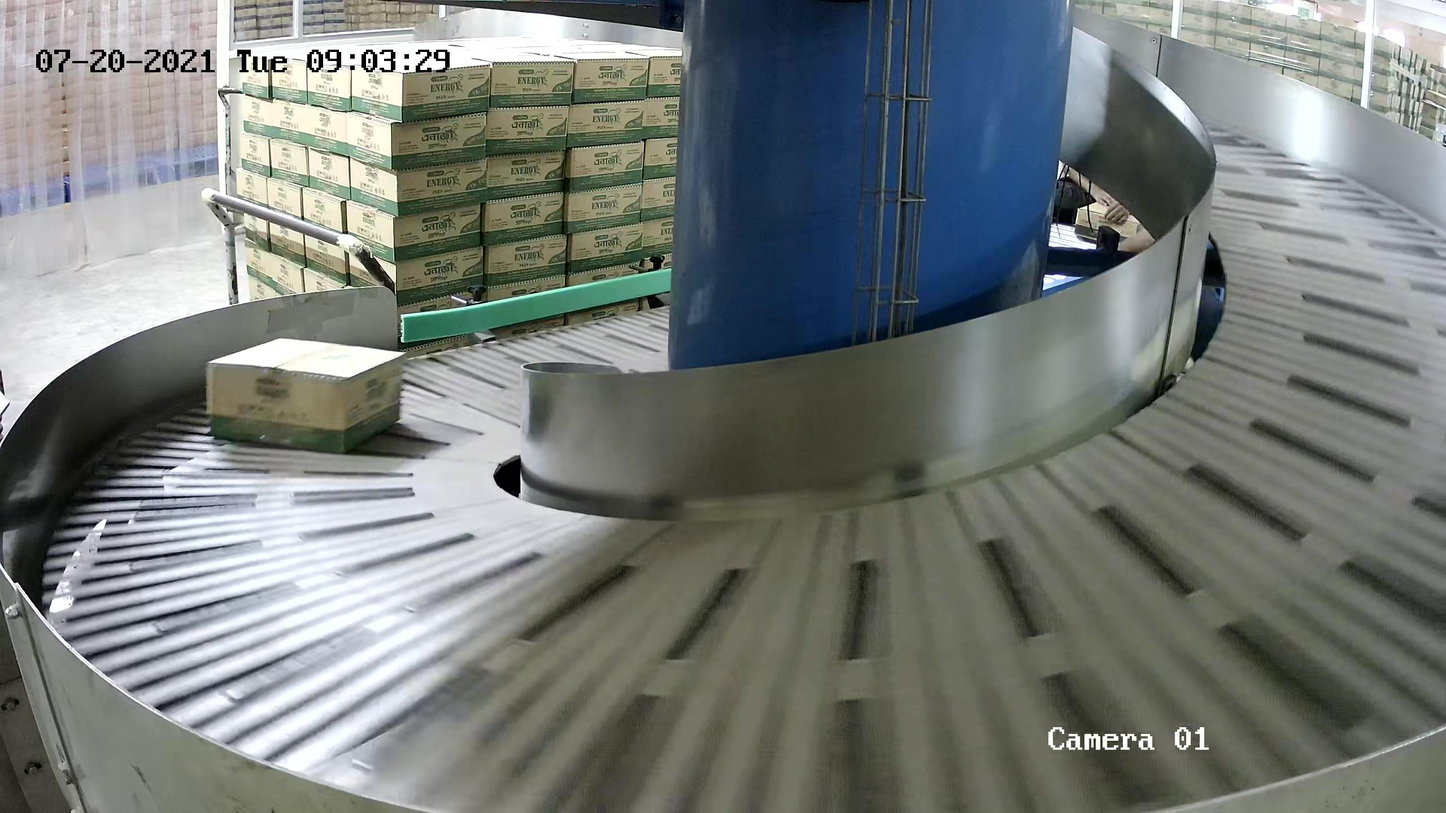Box: (203, 334, 410, 456)
